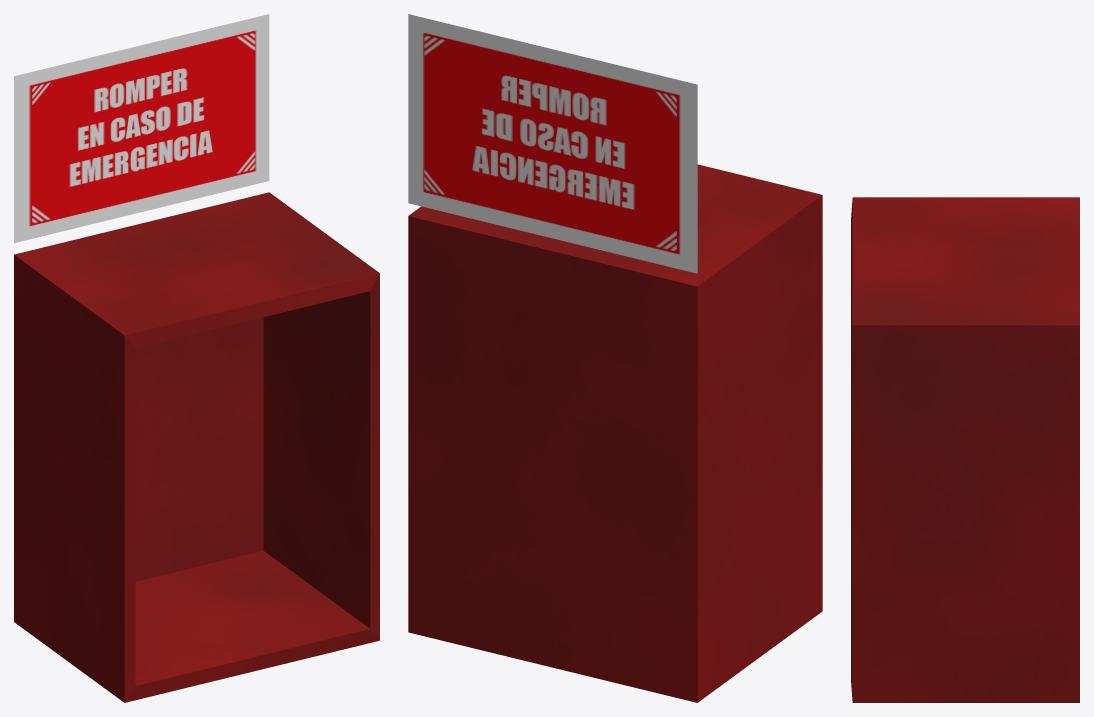
File: extinto.fbx
3 views of the same model, side by side, from view 1: azimuth 30°, elevation 25°; view 2: azimuth 150°, elevation 25°; view 3: azimuth 270°, elevation 25° (orthographic). The views are drawn at different scales.
Visible parts, largest first — view 1: cajaExtintor, cartelRompe; view 2: cajaExtintor, cartelRompe; view 3: cajaExtintor.
Boxes of the visible parts, bbox=[...] form: cajaExtintor: bbox=[14, 192, 379, 702]; cartelRompe: bbox=[14, 14, 269, 243]; cajaExtintor: bbox=[408, 164, 822, 702]; cartelRompe: bbox=[408, 14, 697, 273]; cajaExtintor: bbox=[851, 197, 1079, 702].
Size of the model in its own units: 40 by 81.71 by 30.2.
